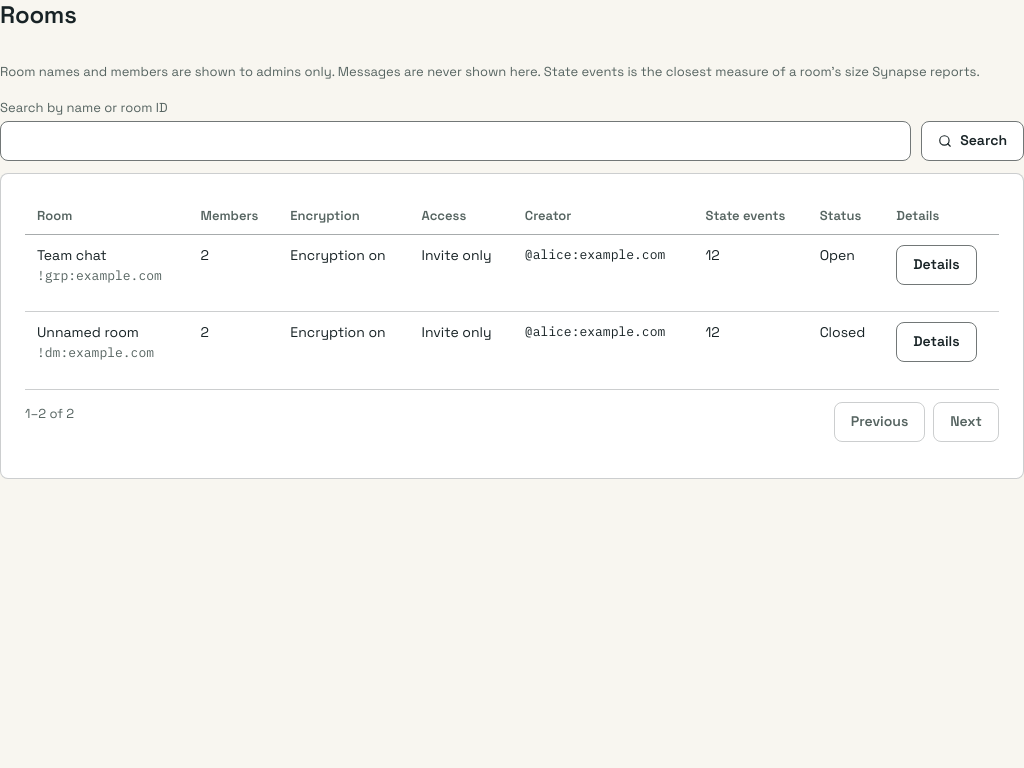
Test: Rooms › closes a room after confirming, then polls until Synapse finishes
Step 1. Click the button with aria-label "Details for Team chat" → (936,264), box [896,244,977,284]
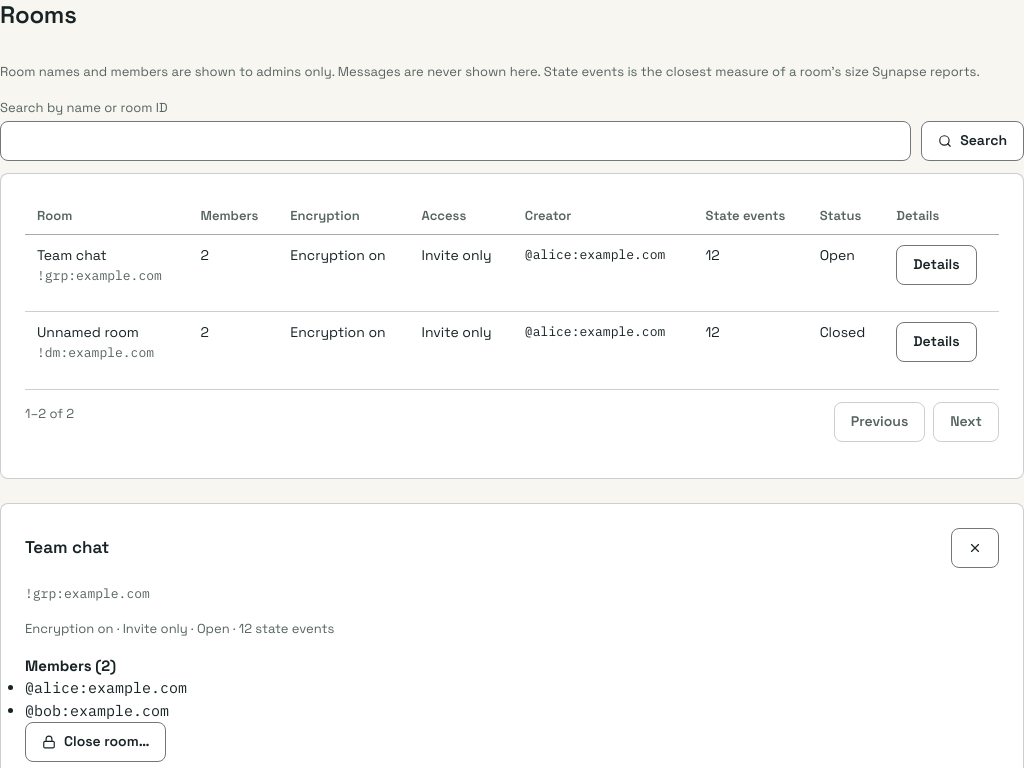
expect the list named "Members" is shown: met, box [25,678,187,720]
expect the list named "Members" shows "@bob:example.com": met, box [25,700,169,720]
Step 2. Click the button "Close room…" → (96,742), box [25,722,166,762]
(page scrolled)
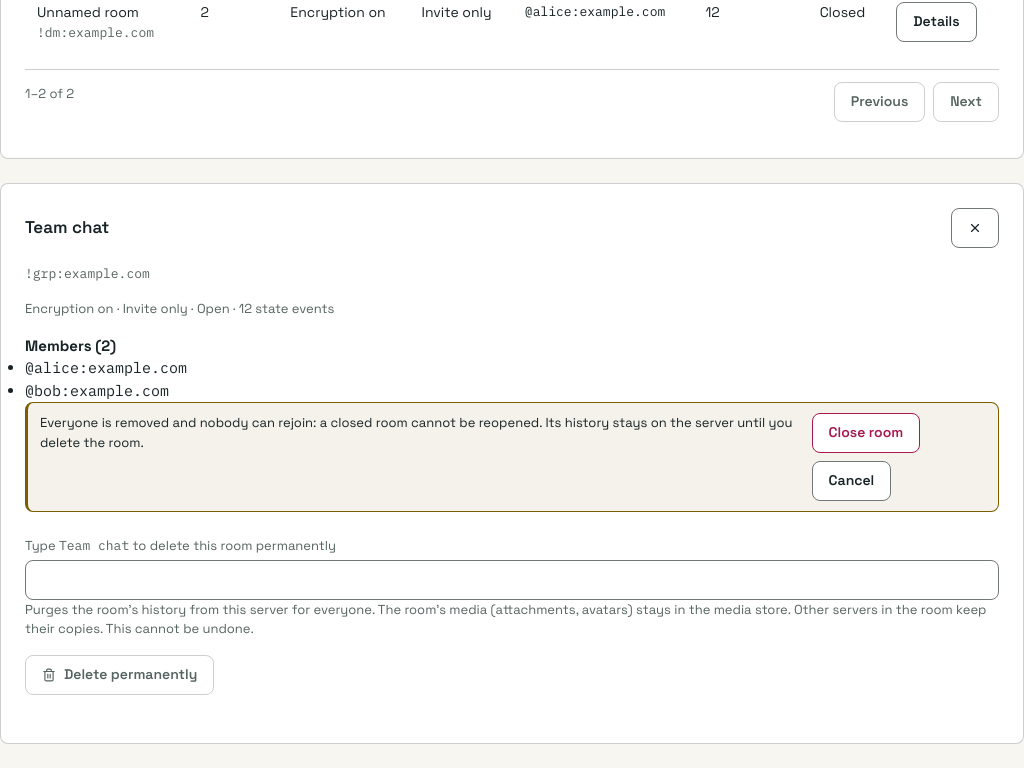
expect the element named "Confirm close" shows "cannot be reopened": met, box [40,414,792,450]
Step 3. Click the button "Close room" → (866,433), box [812,413,920,453]
(page scrolled)
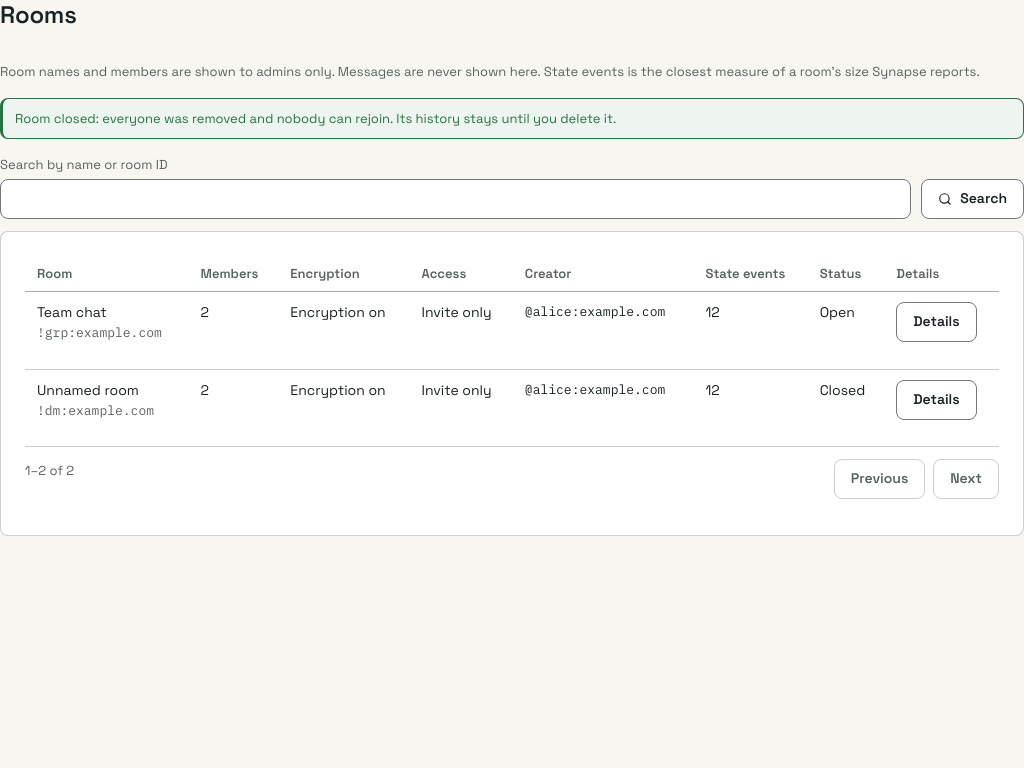
expect the text "Room closed: everyone was removed" is shown: met, box [15,110,616,126]
